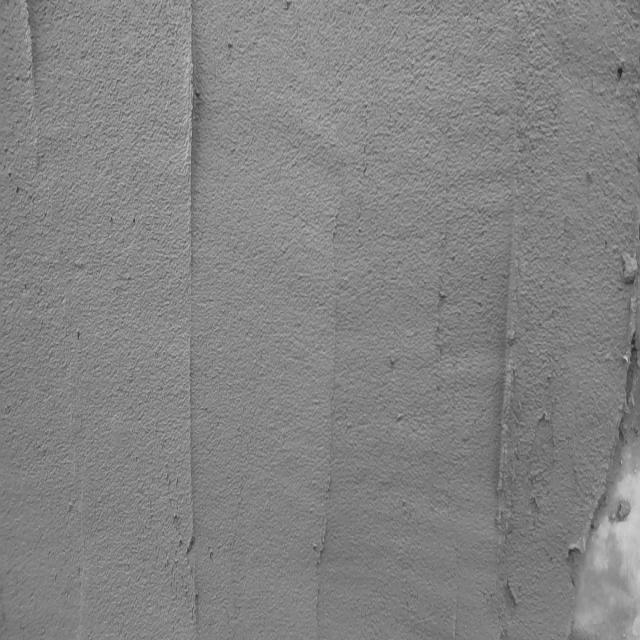trowels marks: (185, 0, 205, 640), (494, 200, 520, 609), (315, 205, 341, 611), (19, 0, 53, 199)
